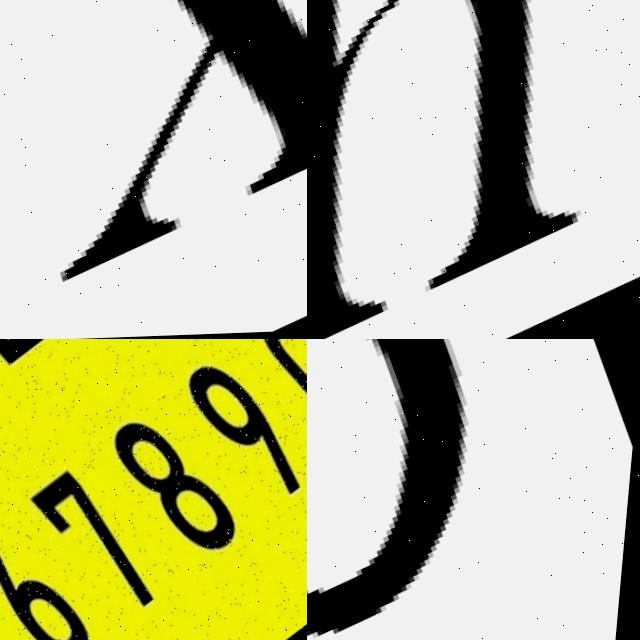0: (214, 339, 307, 501)
6: (0, 442, 148, 640)
7: (0, 407, 209, 640)
8: (67, 357, 287, 609)
9: (144, 339, 307, 555)
H: (307, 0, 454, 339), (438, 0, 587, 293)
P: (307, 339, 471, 640)
X: (0, 0, 307, 294)
